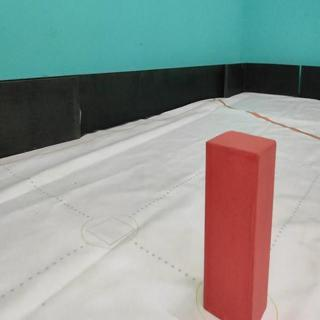redbox: (203, 130, 276, 320)
